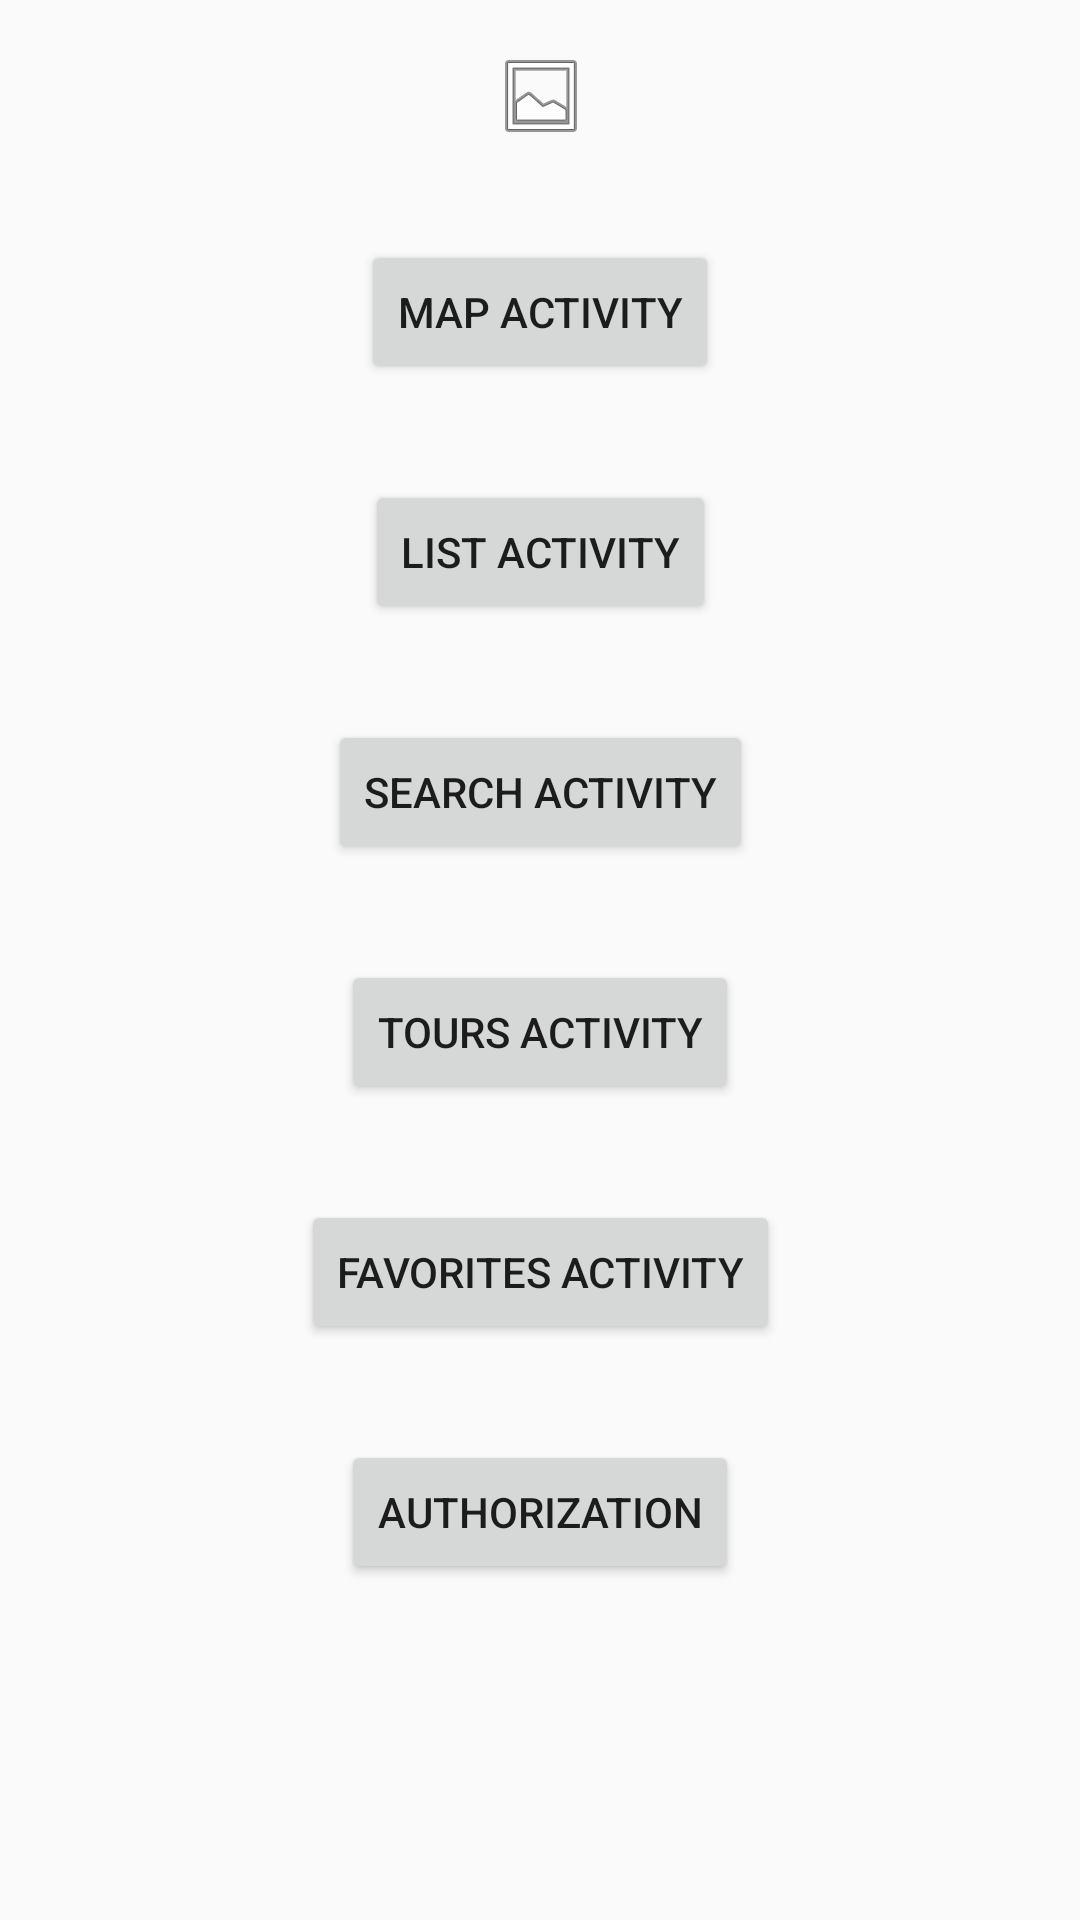

Icon bounding boxes for this 1080px x 1920px phone screenshot, format (x1, y1, x2, y2):
gallery: (505, 60, 577, 132)
